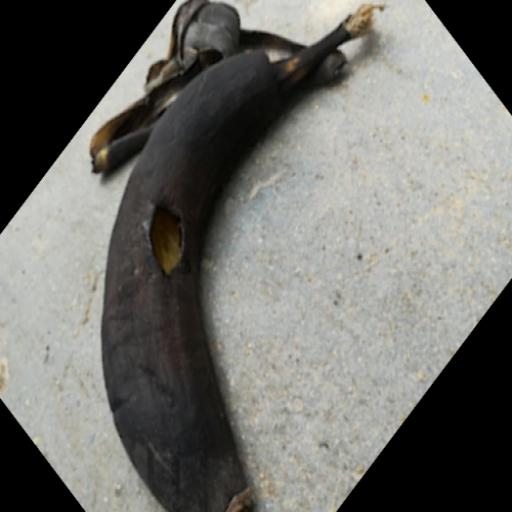banana-overripe: (76, 0, 361, 512)
